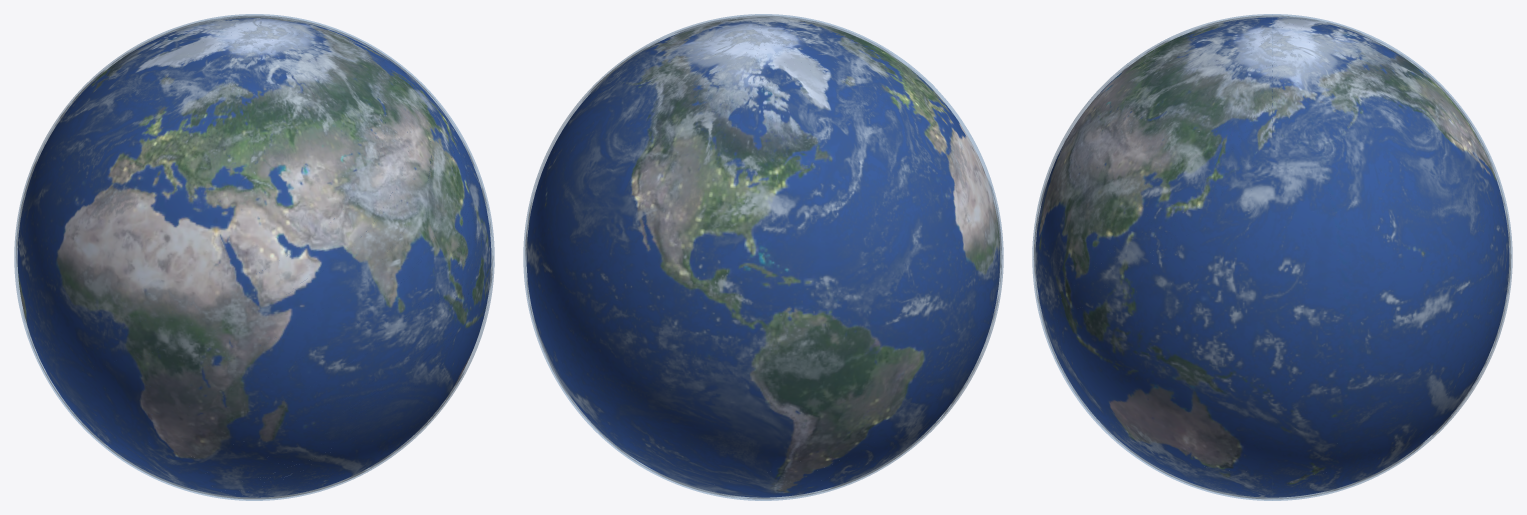
The model's file is earth_compressed4k4.glb.
The picture shows the model from 3 angles, left to right: view 1: azimuth 30°, elevation 25°; view 2: azimuth 150°, elevation 25°; view 3: azimuth 270°, elevation 25°; orthographic projection.
Visible parts, largest first — view 1: pSphere5, pSphere1, pSphere4; view 2: pSphere5, pSphere1, pSphere4; view 3: pSphere5, pSphere1, pSphere4.
Boxes of the visible parts, bbox=[...] form: pSphere5: bbox=[14, 14, 494, 500]; pSphere1: bbox=[17, 17, 491, 497]; pSphere4: bbox=[16, 15, 493, 499]; pSphere5: bbox=[523, 14, 1003, 500]; pSphere1: bbox=[526, 17, 1000, 497]; pSphere4: bbox=[525, 15, 1002, 499]; pSphere5: bbox=[1032, 14, 1512, 500]; pSphere1: bbox=[1035, 17, 1509, 497]; pSphere4: bbox=[1034, 15, 1510, 499].
Bounding box in the file's own units: 192 × 196 × 192.
3 materials, 2 textured.
